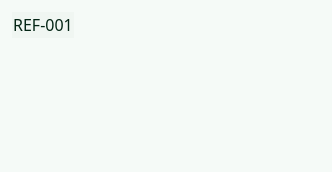
Test: ClickableTableRow › n'ouvre pas la fiche quand on clique un lien de la ligne
Click the link "REF-001" at {"x": 43, "y": 25}, box [13, 14, 73, 36]
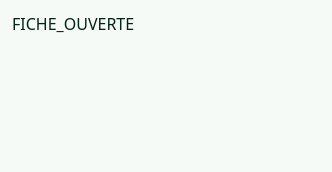
Check: the text "FICHE_OUVERTE" is shown, box [12, 13, 134, 35]
